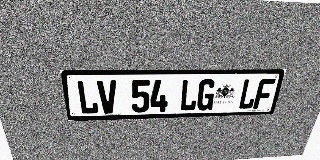4: (150, 80, 169, 112)
5: (131, 80, 150, 113)
F: (253, 79, 276, 109)
G: (196, 79, 217, 111)
L: (76, 80, 99, 114), (237, 79, 260, 109), (179, 79, 199, 111)
V: (97, 80, 118, 114)
